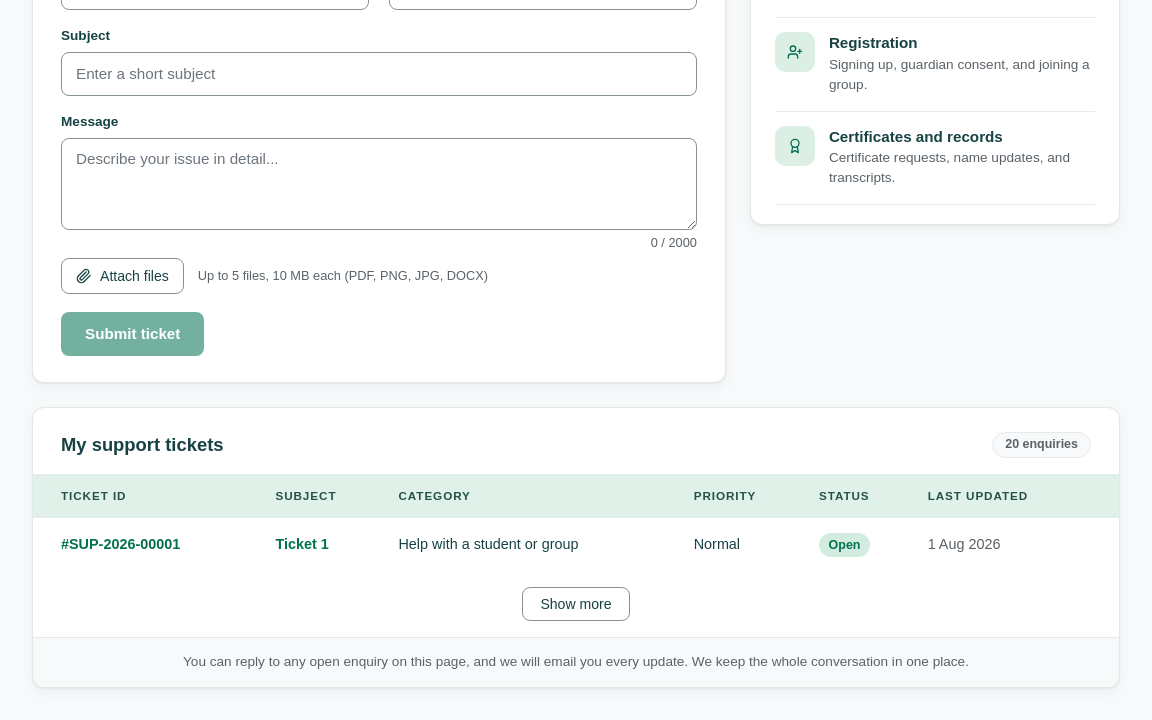
Scenario: SupportCentrePage Show more › reports a second-page failure in its own slot, not the page-level one
(page scrolled)
Click the button with class "support__more-button" at (576, 604), box [522, 587, 630, 621]
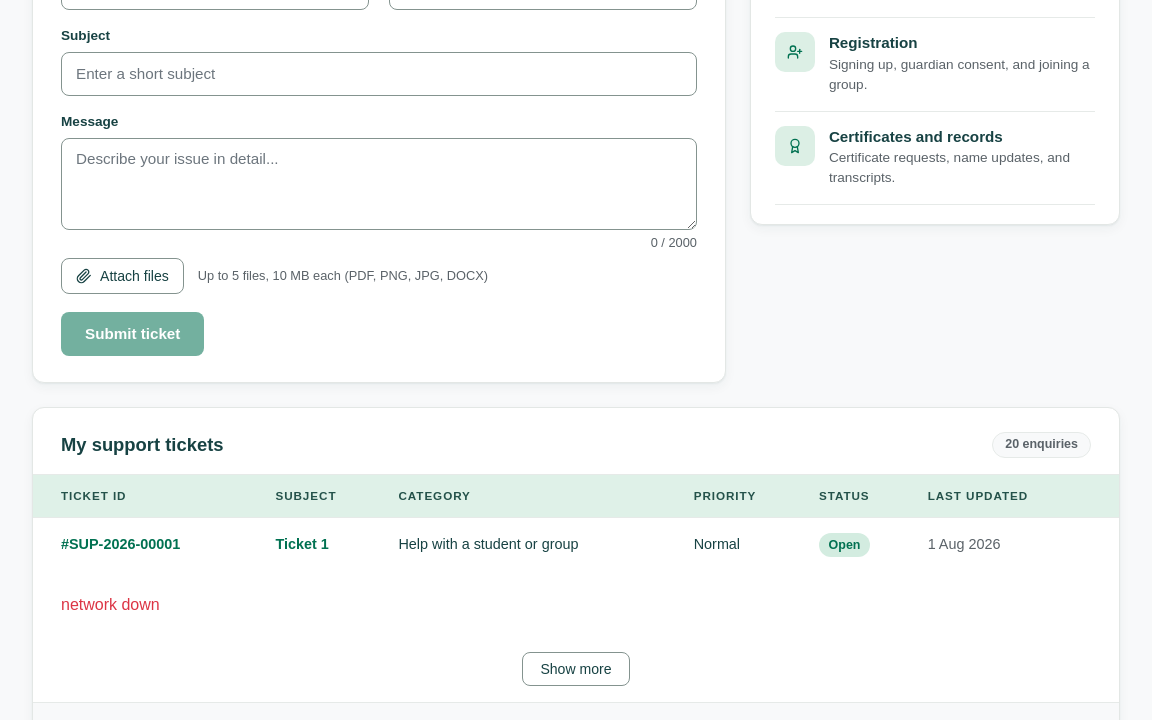
Expected: the text "SUP-2026-00001" is shown, [61, 536, 180, 552]
Result: the message "network down" is shown at [61, 596, 160, 613]
